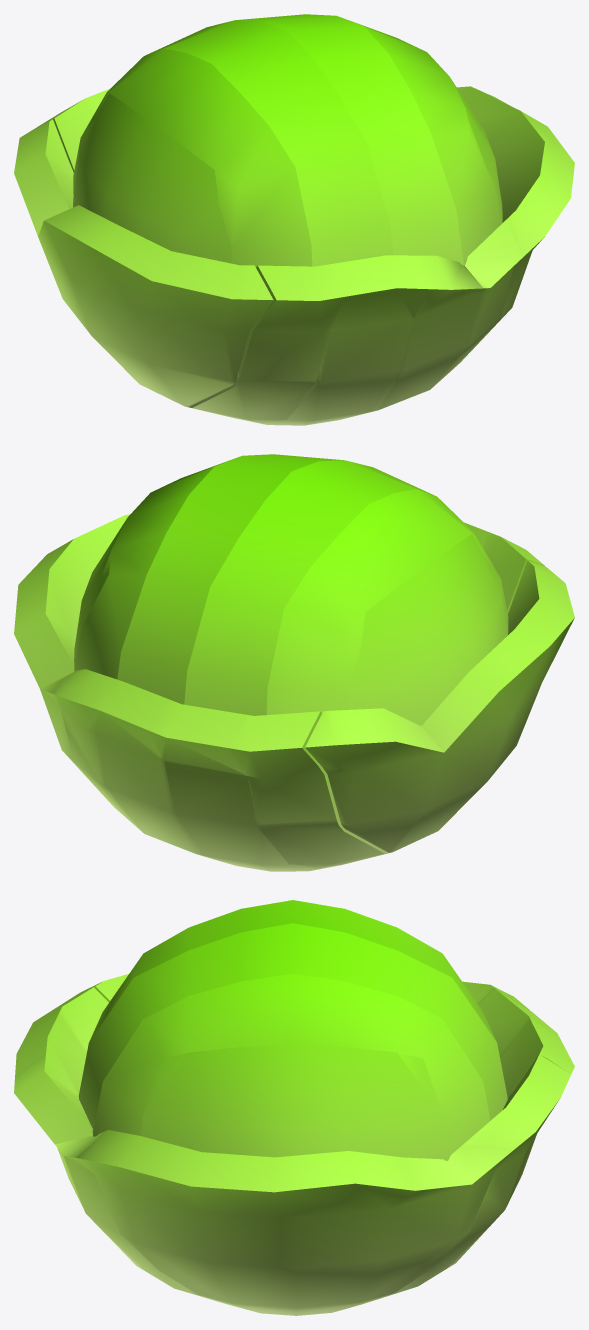
Rendered from Lettuce_01_Sliced.fbx.
3 views of the same model, one above another, from view 1: azimuth 30°, elevation 25°; view 2: azimuth 150°, elevation 25°; view 3: azimuth 270°, elevation 25° (orthographic). The views are drawn at different scales.
Visible parts, largest first — view 1: Lettuce_P5, Lettuce_P3, Lettuce_P4, Lettuce_01_P2, Lettuce_01_P1, Lettuce_01_Sliced; view 2: Lettuce_P5, Lettuce_P3, Lettuce_P4, Lettuce_01_P2, Lettuce_01_P1, Lettuce_01_Sliced; view 3: Lettuce_01_Sliced, Lettuce_01_P1, Lettuce_01_P2, Lettuce_P3, Lettuce_P4, Lettuce_P5.
Part boxes in pixels (left/top/right/bottom): Lettuce_P5: left=14, top=93, right=273, bottom=406; Lettuce_P3: left=92, top=20, right=427, bottom=425; Lettuce_P4: left=37, top=49, right=346, bottom=422; Lettuce_01_P2: left=235, top=14, right=483, bottom=420; Lettuce_01_P1: left=344, top=18, right=522, bottom=381; Lettuce_01_Sliced: left=450, top=77, right=574, bottom=337; Lettuce_P5: left=305, top=534, right=574, bottom=852; Lettuce_P3: left=149, top=460, right=487, bottom=871; Lettuce_P4: left=227, top=489, right=545, bottom=868; Lettuce_01_P2: left=83, top=454, right=343, bottom=866; Lettuce_01_P1: left=52, top=458, right=235, bottom=826; Lettuce_01_Sliced: left=14, top=514, right=130, bottom=782; Lettuce_01_Sliced: left=76, top=1045, right=513, bottom=1311; Lettuce_01_P1: left=55, top=973, right=550, bottom=1315; Lettuce_01_P2: left=14, top=923, right=571, bottom=1308; Lettuce_P3: left=15, top=900, right=574, bottom=1097; Lettuce_P4: left=27, top=987, right=561, bottom=1056; Lettuce_P5: left=58, top=974, right=529, bottom=1009.
Bounding box in the file's own units: 61.07 × 45.38 × 63.02.
